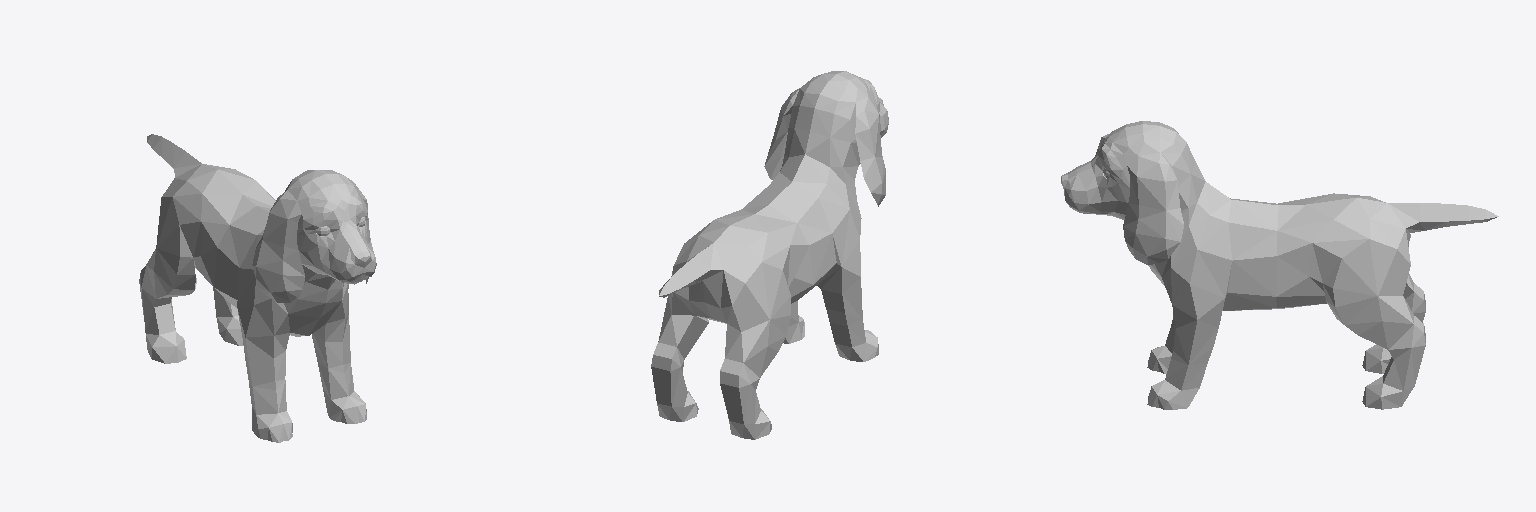
The model's file is dog.obj.
The picture shows the model from 3 angles: view 1: azimuth 30°, elevation 25°; view 2: azimuth 150°, elevation 25°; view 3: azimuth 270°, elevation 25°; orthographic projection.
Visible parts, largest first — view 1: vsn_mesh_1__mesh_1_.001; view 2: vsn_mesh_1__mesh_1_.001; view 3: vsn_mesh_1__mesh_1_.001.
Boxes of the visible parts, x1=… form: vsn_mesh_1__mesh_1_.001: x1=139, y1=134, x2=376, y2=442; vsn_mesh_1__mesh_1_.001: x1=651, y1=71, x2=888, y2=439; vsn_mesh_1__mesh_1_.001: x1=1061, y1=121, x2=1498, y2=409.
Bounding box in the file's own units: 1.51 × 3.33 × 5.02.